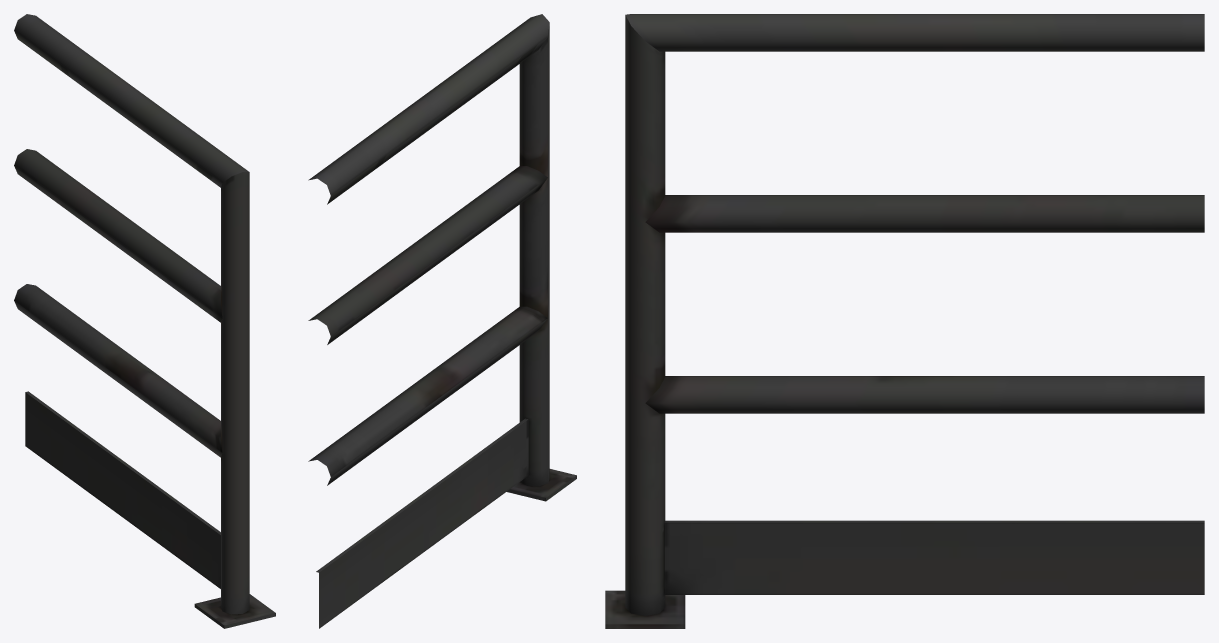
3 views of the same model, side by side, from view 1: azimuth 30°, elevation 25°; view 2: azimuth 150°, elevation 25°; view 3: azimuth 270°, elevation 25° (orthographic). The views are drawn at different scales.
Visible parts, largest first — view 1: body0_model0_lod0_mesh0; view 2: body0_model0_lod0_mesh0; view 3: body0_model0_lod0_mesh0.
Boxes of the visible parts, box(x1,y1,x2,y2) form: body0_model0_lod0_mesh0: box(14, 14, 275, 628); body0_model0_lod0_mesh0: box(308, 14, 576, 628); body0_model0_lod0_mesh0: box(605, 14, 1204, 628).
Bounding box in the file's own units: 4 × 33 × 30.
Materials: 1 (1 with a texture image).
